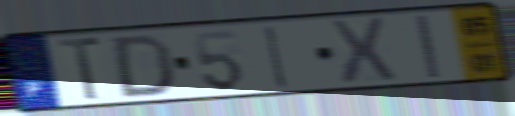5: (190, 27, 247, 93)
D: (111, 32, 175, 100)
I: (413, 13, 442, 81), (263, 23, 290, 91)
T: (55, 35, 105, 103)
X: (326, 16, 400, 88)
